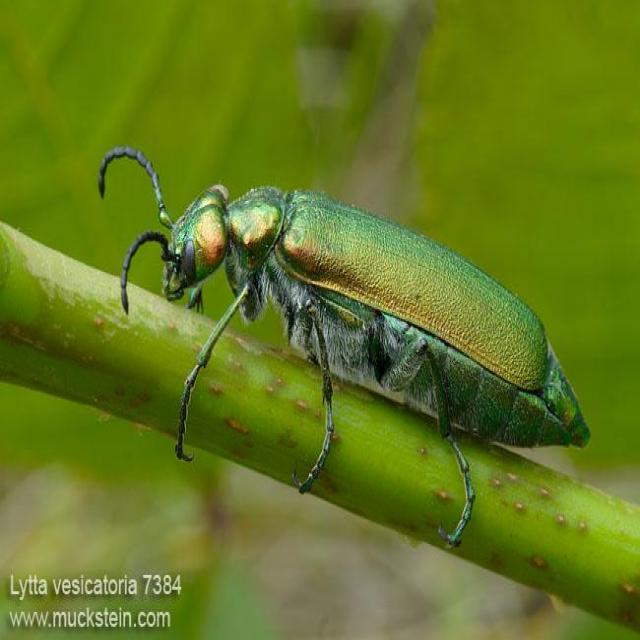BlisterBeetle-Adult-: (87, 134, 595, 554)
